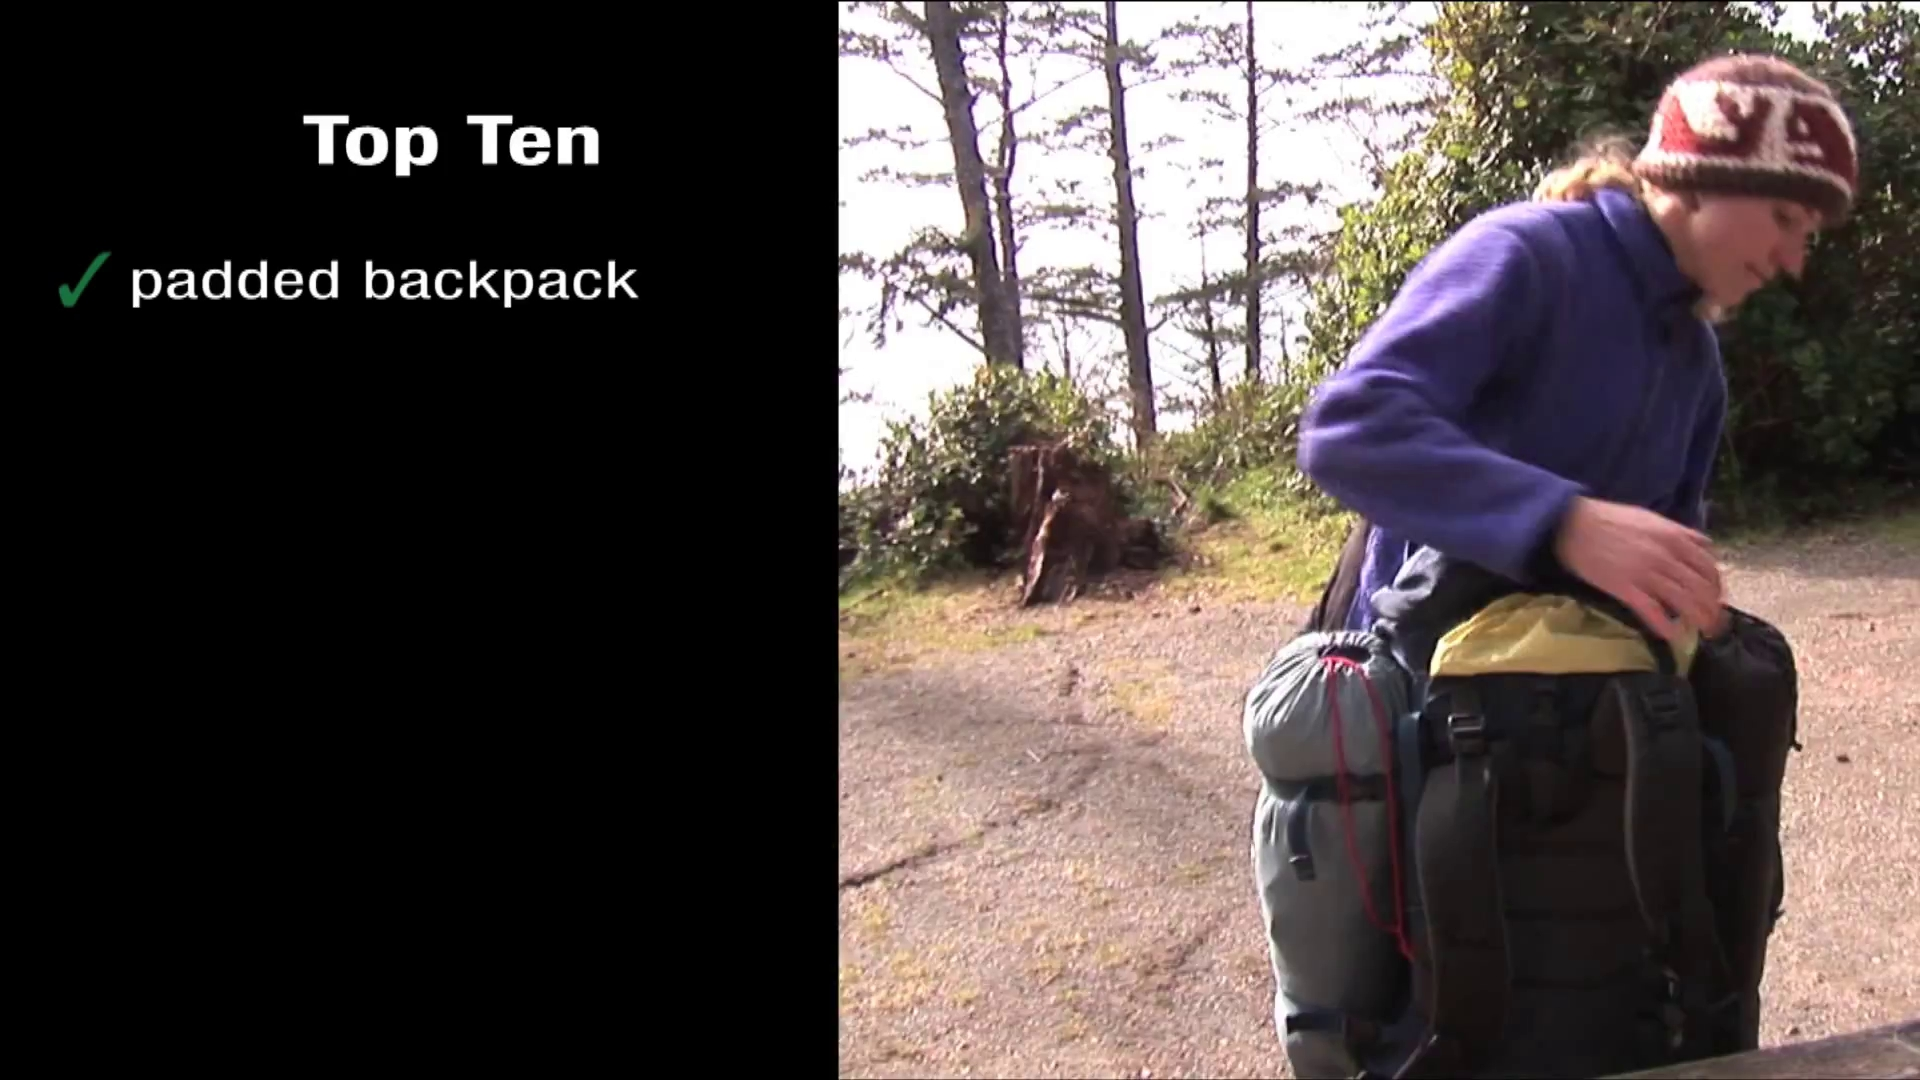person: (1297, 54, 1858, 640)
